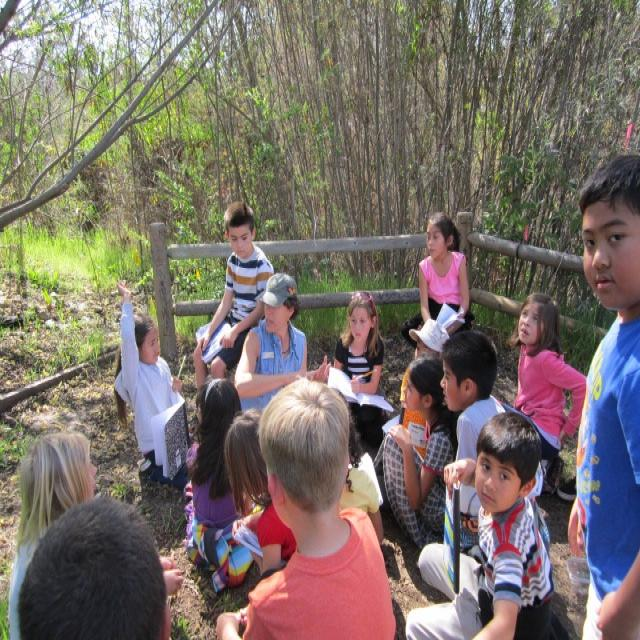body: (211, 369, 405, 639), (3, 425, 188, 639), (561, 140, 639, 639), (400, 404, 557, 639), (438, 327, 547, 556), (9, 501, 171, 640), (109, 279, 203, 493), (183, 374, 265, 594), (373, 354, 458, 550), (193, 200, 276, 391), (513, 291, 589, 496), (231, 269, 334, 415), (222, 407, 298, 584), (324, 288, 391, 455), (399, 211, 477, 352), (328, 384, 388, 552), (398, 316, 452, 407), (556, 467, 586, 504)
